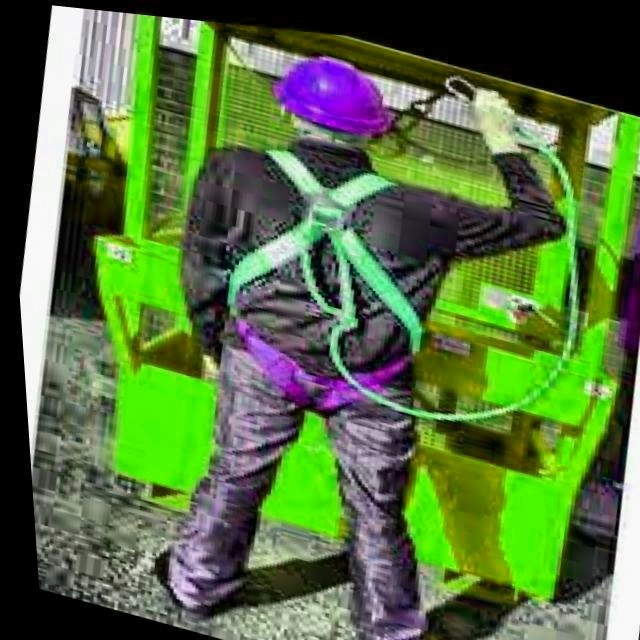safety belt: (220, 124, 456, 430)
